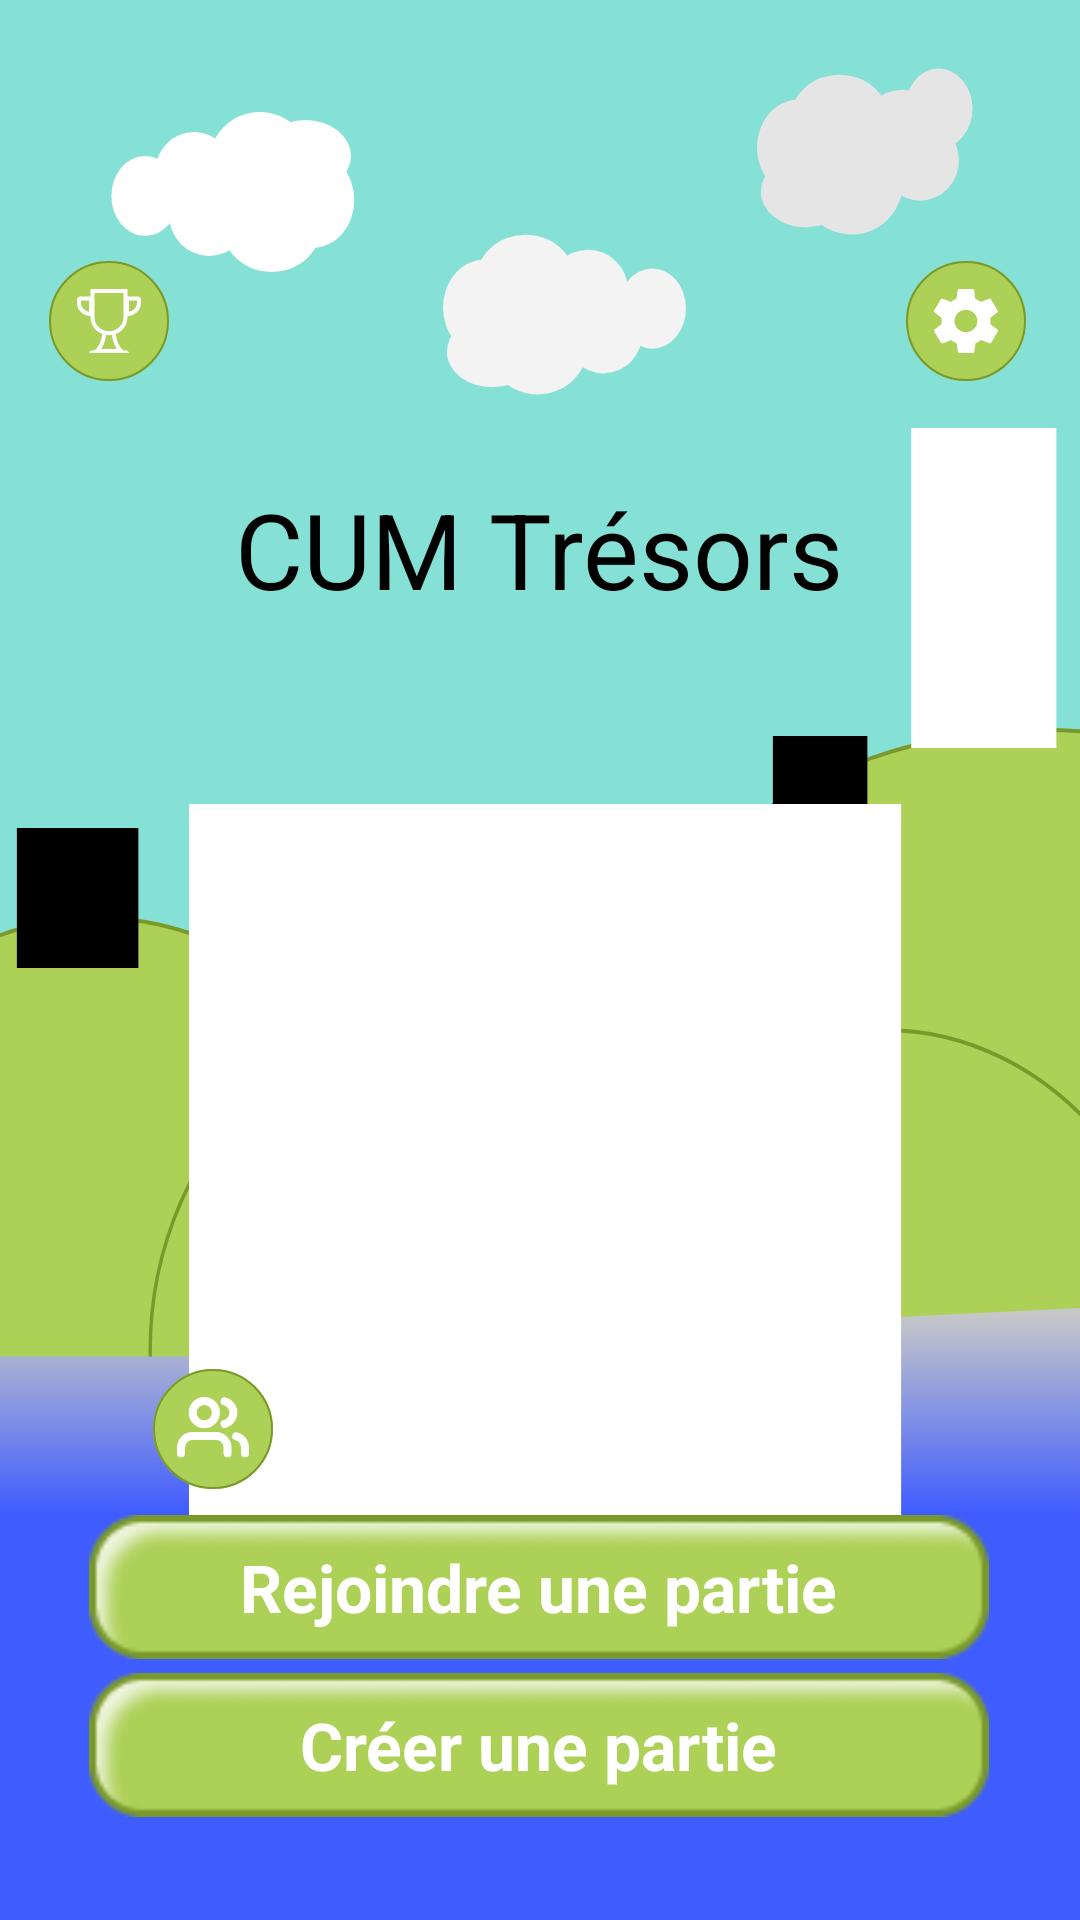

Where to tap for icons on this 1080px×1920px app screen, as [x,y]:
amis: [213,1429]
Classement: [109,321]
Paramétres: [966,321]
